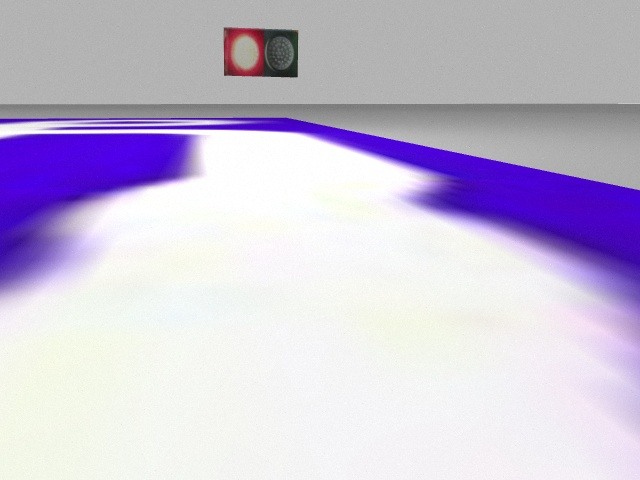red: (225, 26, 265, 77)
